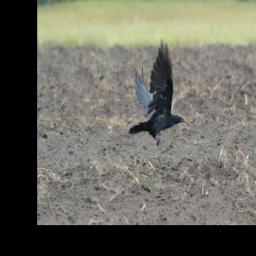Crow: (128, 37, 187, 148)
